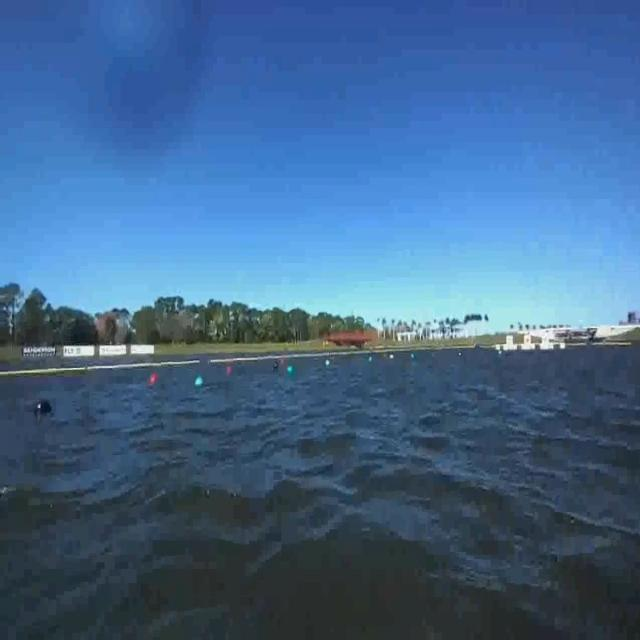black-buoy: (34, 400, 53, 416)
green-buoy: (193, 376, 203, 389)
red-buoy: (149, 371, 158, 385)
